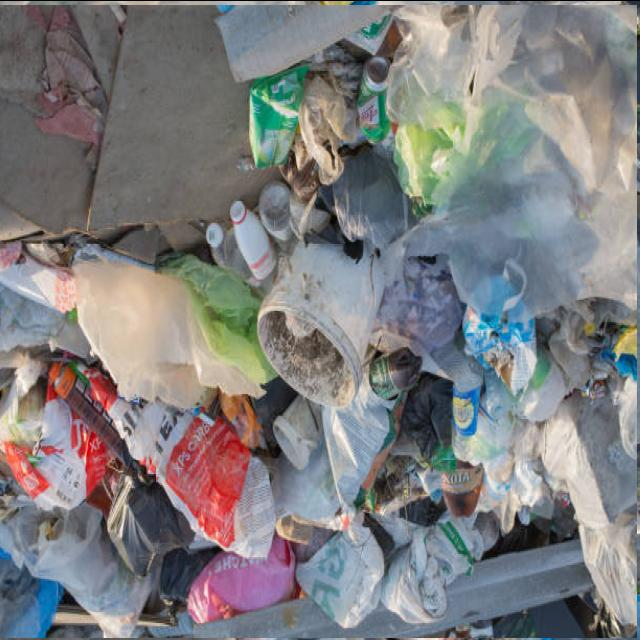garbage: (0, 1, 636, 638)
